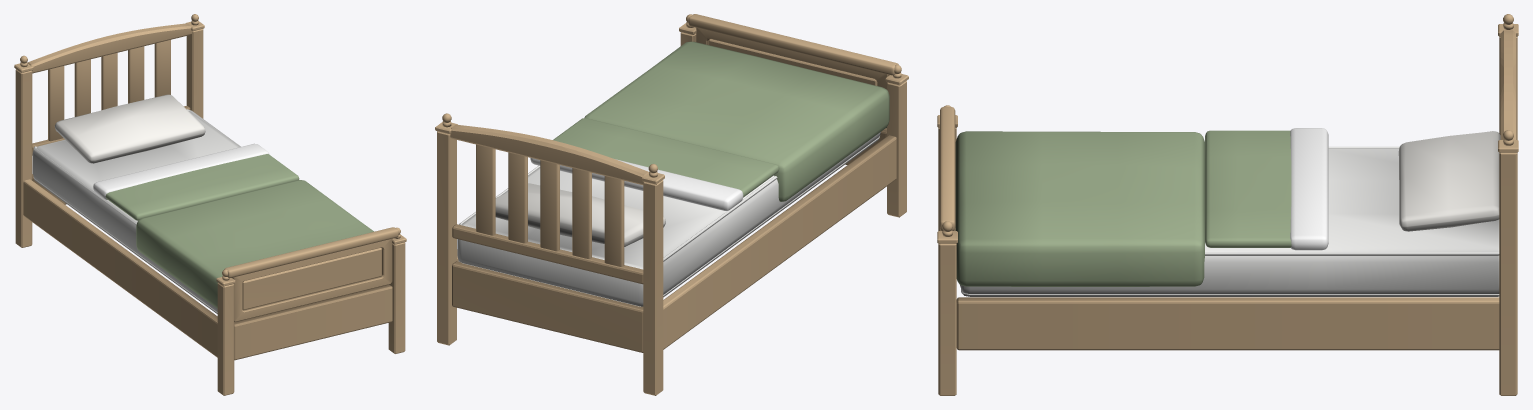
The model's file is bedSingle.glb.
3 views of the same model, side by side, from view 1: azimuth 30°, elevation 25°; view 2: azimuth 150°, elevation 25°; view 3: azimuth 270°, elevation 25° (orthographic). The views are drawn at different scales.
Parts seen in each view (by area): view 1: bedSingle, duvet_flap; view 2: bedSingle, duvet_flap; view 3: bedSingle, duvet_flap.
Boxes of the visible parts, box(x1,y1,x2,y2) form: bedSingle: box(14, 14, 406, 395); duvet_flap: box(93, 143, 299, 220); bedSingle: box(435, 14, 908, 395); duvet_flap: box(530, 118, 779, 210); bedSingle: box(937, 14, 1518, 395); duvet_flap: box(1205, 128, 1328, 250).
Bounding box in the file's own units: 0.968 × 0.95 × 1.91.
